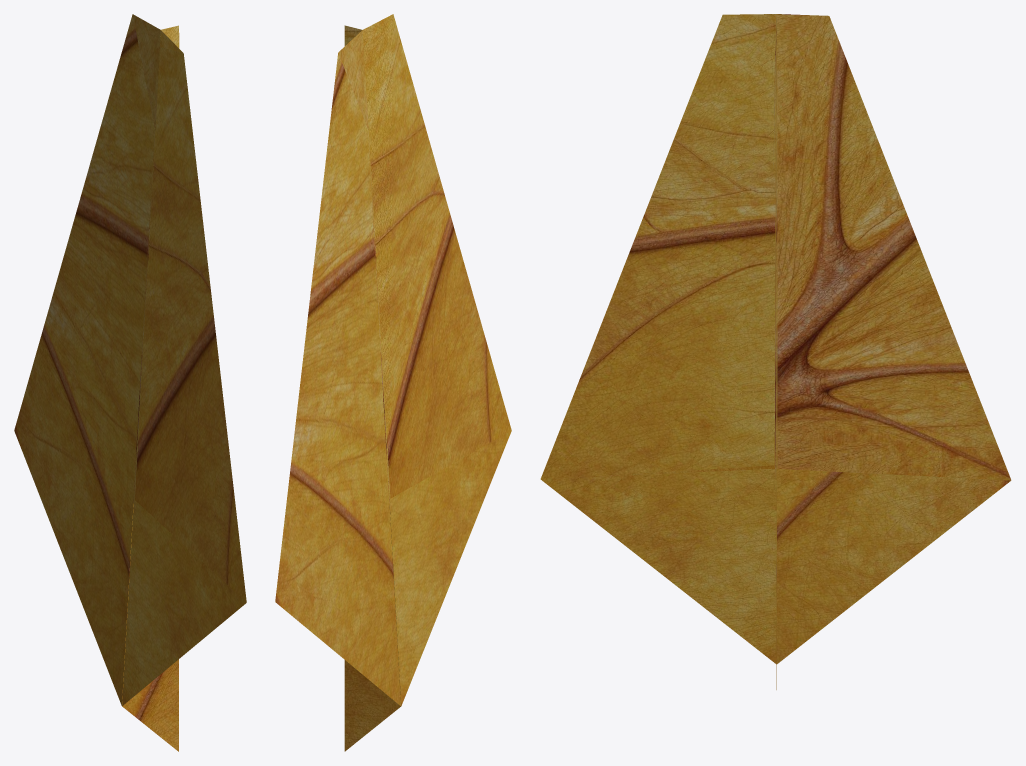
3 renders of one model, left to right at view 1: azimuth 30°, elevation 25°; view 2: azimuth 150°, elevation 25°; view 3: azimuth 270°, elevation 25°, orthographic.
Parts seen in each view (by area): view 1: Origami_Model_13.001; view 2: Origami_Model_13.001; view 3: Origami_Model_13.001.
Boxes of the visible parts, x1,y1,x2,y2 form: Origami_Model_13.001: (14, 14, 246, 751); Origami_Model_13.001: (275, 14, 511, 751); Origami_Model_13.001: (540, 14, 1011, 689).
Bounding box in the file's own units: 0.0189 × 0.2314 × 0.1355.
Materials: 1 (1 with a texture image).
